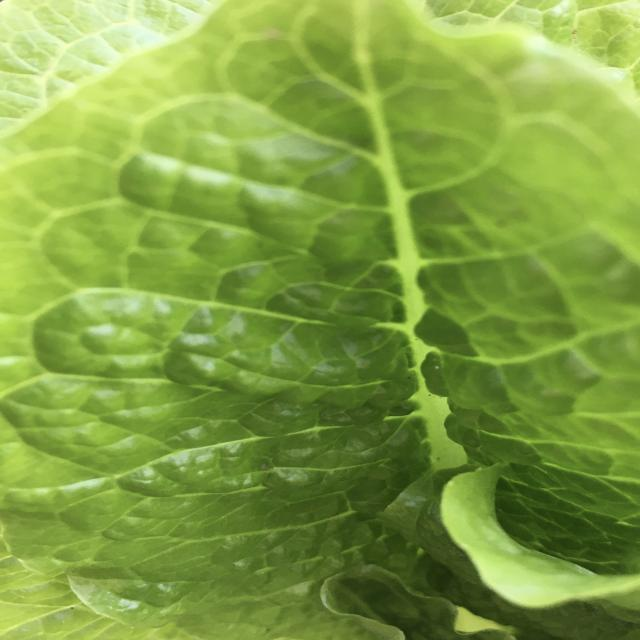Healthy Lettuce: (3, 2, 636, 636), (434, 460, 635, 616)
